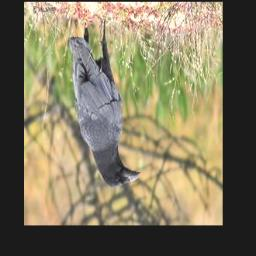Crow: (67, 16, 140, 189)
